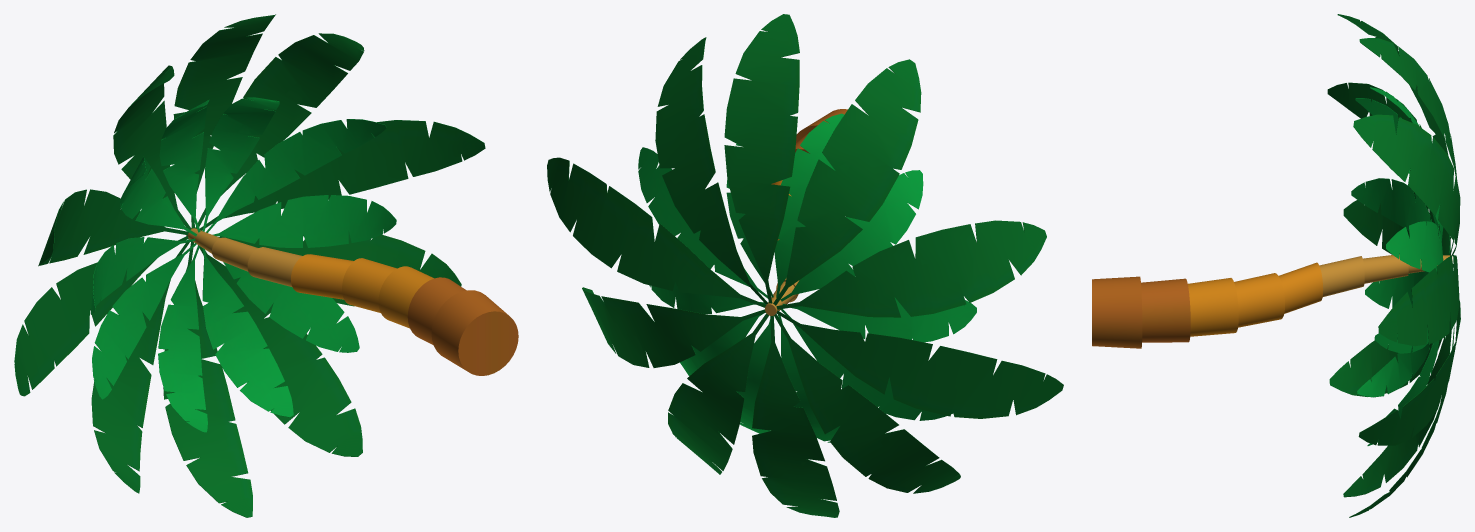
Rendered from Palm.fbx.
The picture shows the model from 3 angles, left to right: view 1: azimuth 30°, elevation 25°; view 2: azimuth 150°, elevation 25°; view 3: azimuth 270°, elevation 25°; orthographic projection. The views are drawn at different scales.
Visible parts, largest first — view 1: Palm; view 2: Palm; view 3: Palm.
Boxes of the visible parts, x1=… form: Palm: x1=14, y1=14, x2=518, y2=517; Palm: x1=547, y1=14, x2=1063, y2=517; Palm: x1=1092, y1=14, x2=1460, y2=517.
Bounding box in the file's own units: 7.05 × 9.92 × 10.31.
